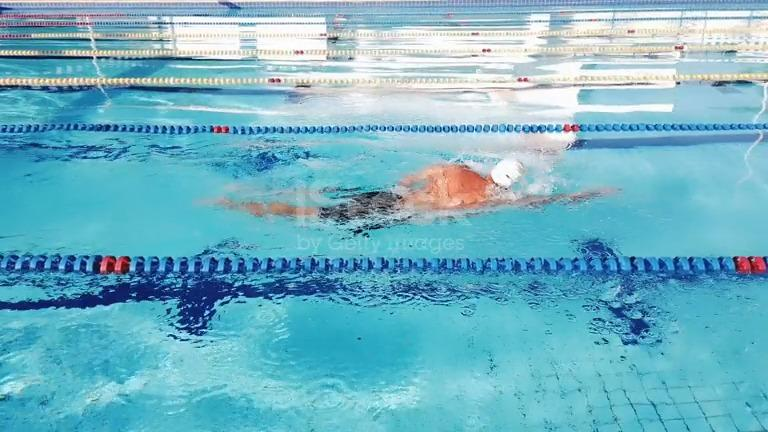Swimming: (200, 154, 620, 232)
